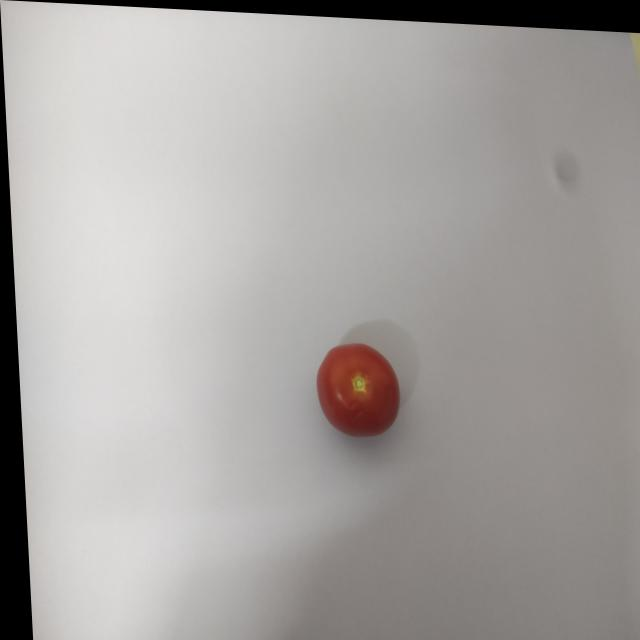kirmizi: (294, 323, 409, 442)
